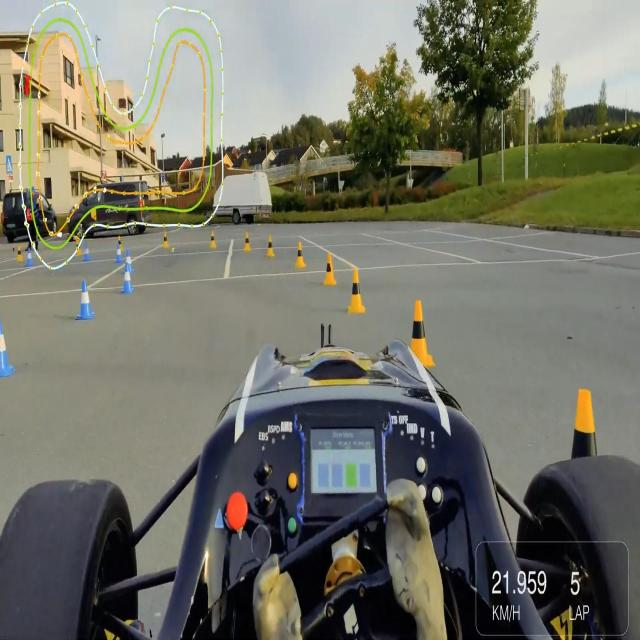blue_cone: (0, 308, 18, 380), (76, 278, 98, 320), (120, 262, 134, 293), (124, 249, 134, 274), (115, 243, 123, 267), (26, 247, 35, 267), (84, 242, 92, 261)
yellow_cone: (553, 386, 609, 543), (405, 300, 435, 370), (348, 266, 368, 314), (324, 250, 336, 288), (295, 241, 306, 269), (266, 235, 276, 258), (243, 231, 252, 253), (162, 231, 171, 252), (210, 230, 218, 250), (15, 244, 23, 263), (75, 238, 82, 257), (118, 235, 124, 257)
